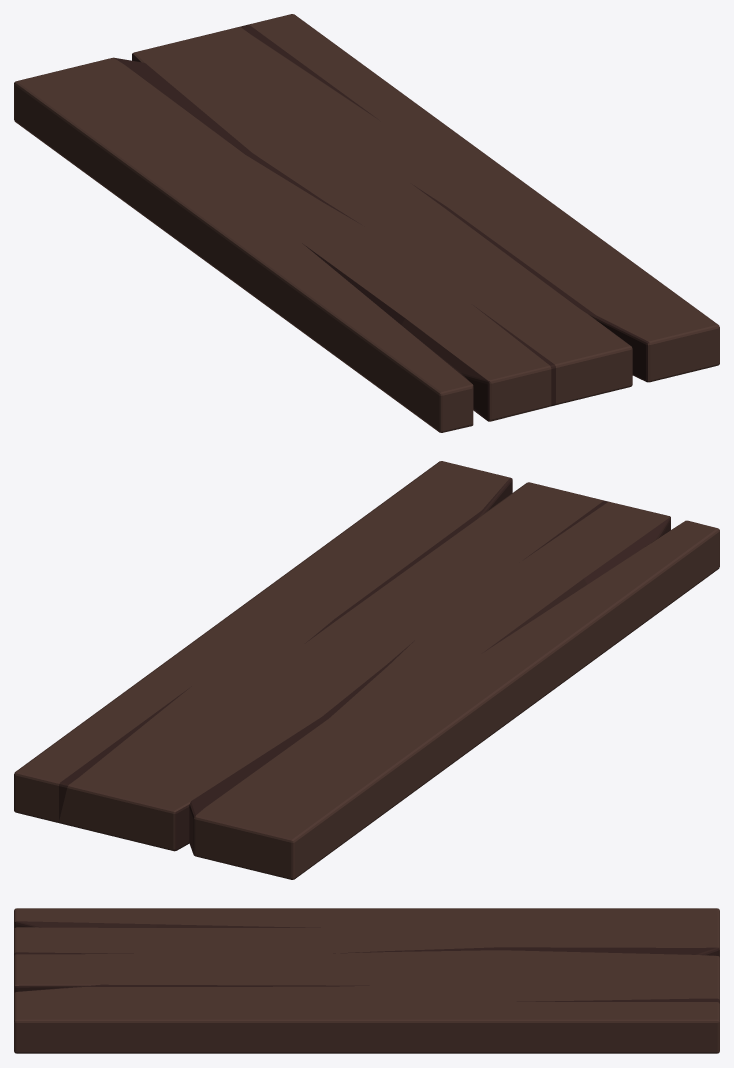
File: wood_plank.fbx
The picture shows the model from 3 angles, top to bottom: view 1: azimuth 30°, elevation 25°; view 2: azimuth 150°, elevation 25°; view 3: azimuth 270°, elevation 25°; orthographic projection. The views are drawn at different scales.
Visible parts, largest first — view 1: wood_plank; view 2: wood_plank; view 3: wood_plank.
Part boxes in pixels (left/top/right/bottom): wood_plank: left=14, top=14, right=719, bottom=432; wood_plank: left=14, top=461, right=719, bottom=879; wood_plank: left=14, top=908, right=719, bottom=1053.
Bounding box in the file's own units: 341 × 47.39 × 899.
